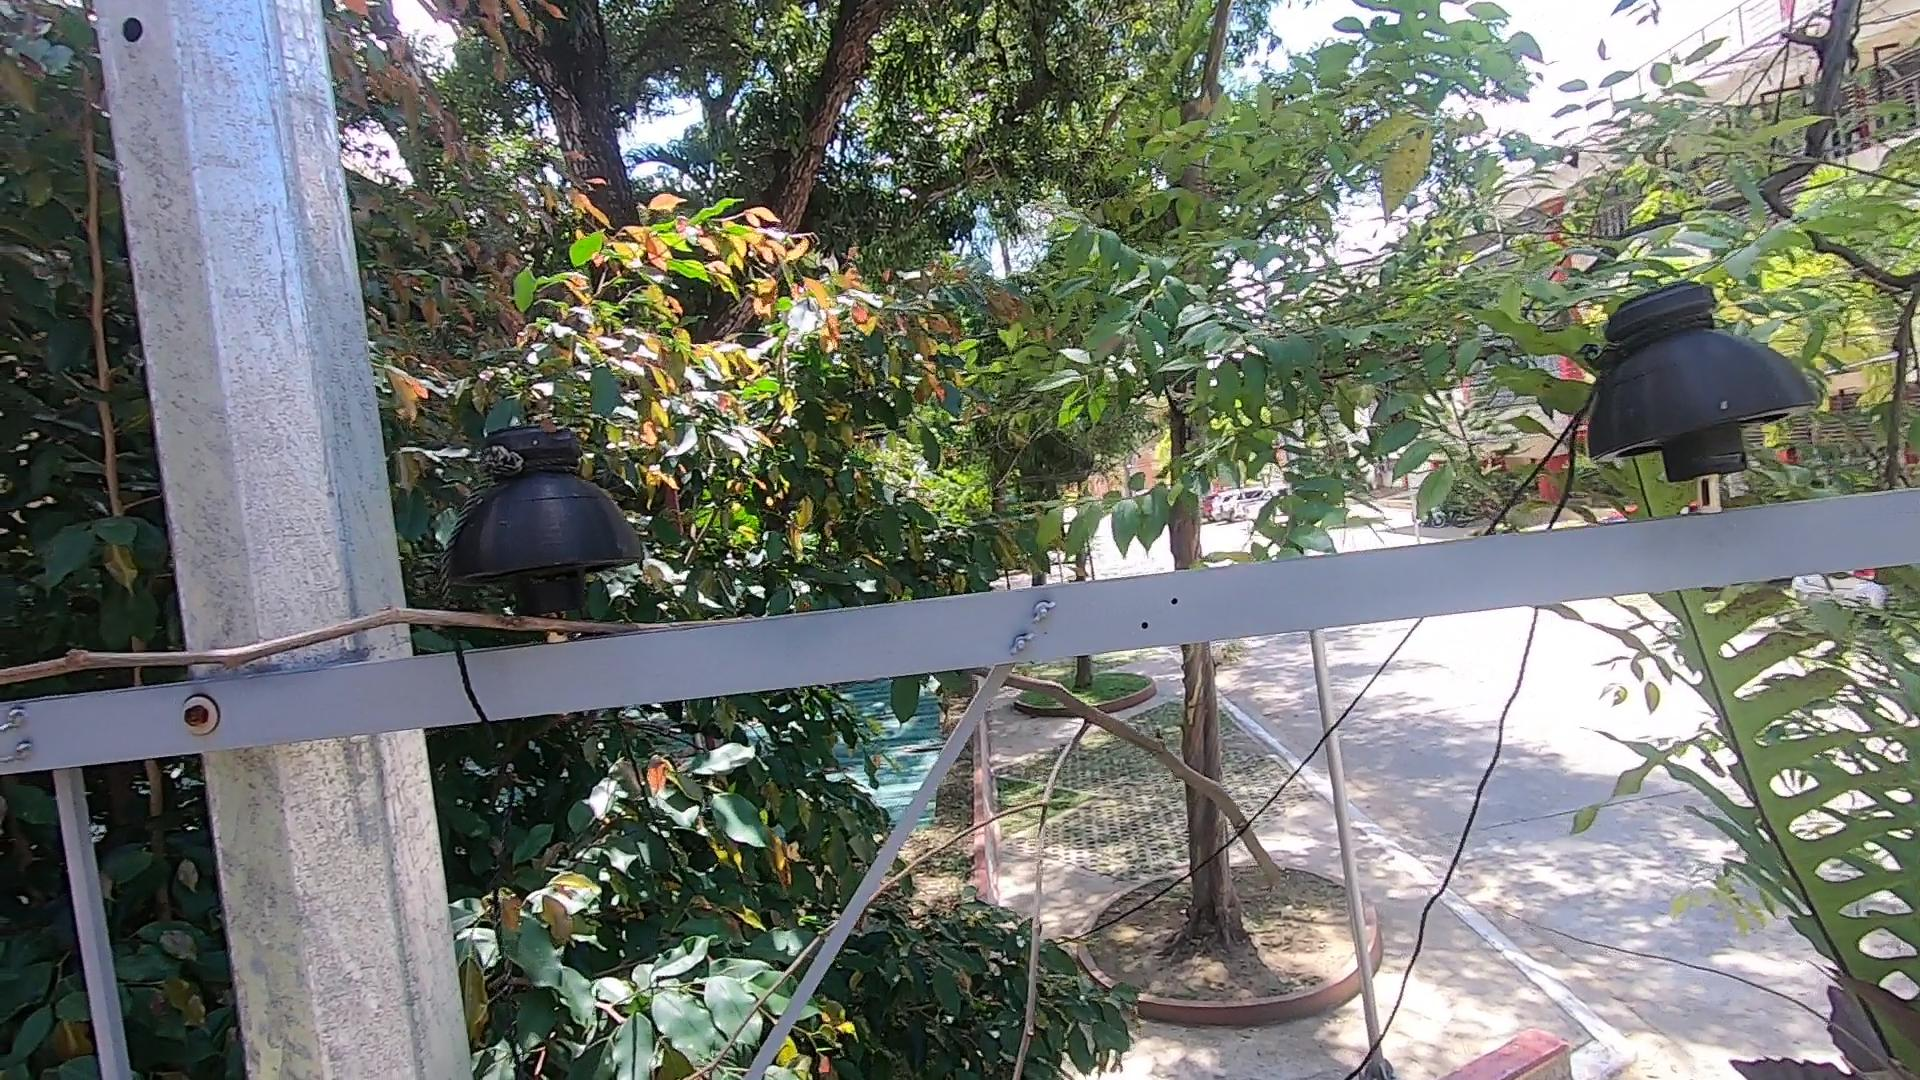tree branch: (11, 603, 1353, 1065)
